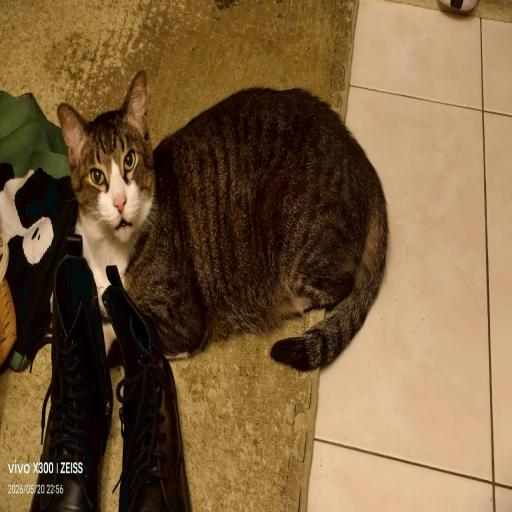cat: (74, 92, 384, 335)
